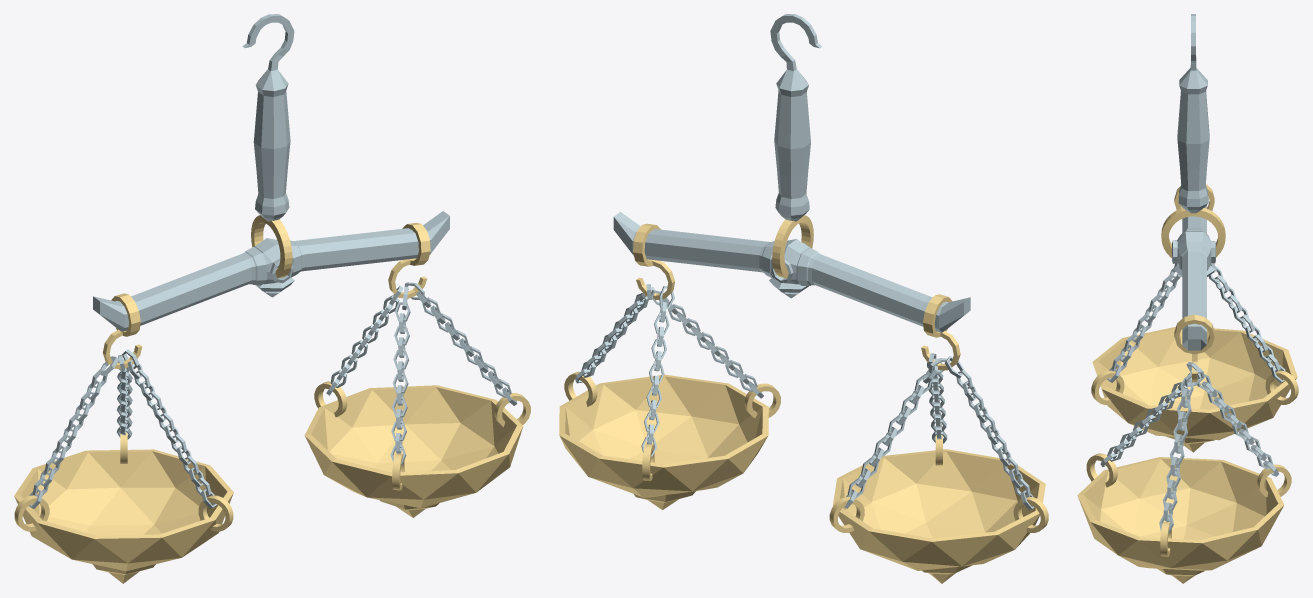
3 views of the same model, side by side, from view 1: azimuth 30°, elevation 25°; view 2: azimuth 150°, elevation 25°; view 3: azimuth 270°, elevation 25° (orthographic). The views are drawn at different scales.
Visible parts, largest first — view 1: Scale2_Pan_R, Scale2_Pan_L, Scale2_Beam, Scale2_Royal; view 2: Scale2_Pan_R, Scale2_Pan_L, Scale2_Beam, Scale2_Royal; view 3: Scale2_Pan_R, Scale2_Pan_L, Scale2_Royal, Scale2_Beam.
Part boxes in pixels (<box>): Scale2_Pan_R: <box>304,223,530,517</box>; Scale2_Pan_L: <box>14,293,233,583</box>; Scale2_Beam: <box>93,211,449,331</box>; Scale2_Royal: <box>242,14,294,278</box>; Scale2_Pan_R: <box>559,223,780,509</box>; Scale2_Pan_L: <box>829,294,1048,583</box>; Scale2_Beam: <box>613,212,970,332</box>; Scale2_Royal: <box>770,14,821,278</box>; Scale2_Pan_R: <box>1077,314,1291,583</box>; Scale2_Pan_L: <box>1091,184,1298,452</box>; Scale2_Royal: <box>1161,14,1225,257</box>; Scale2_Beam: <box>1172,205,1215,350</box>.
Bounding box in the file's own units: 5.22 × 5.34 × 2.12.
